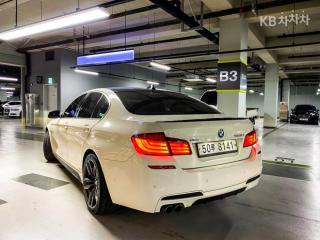0: (206, 143, 211, 153)
1: (222, 142, 226, 150), (230, 142, 234, 149)
4: (226, 142, 230, 150)
5: (202, 144, 207, 153)
8: (217, 143, 222, 151)
plate: (192, 138, 241, 158)
루: (211, 143, 216, 151)
